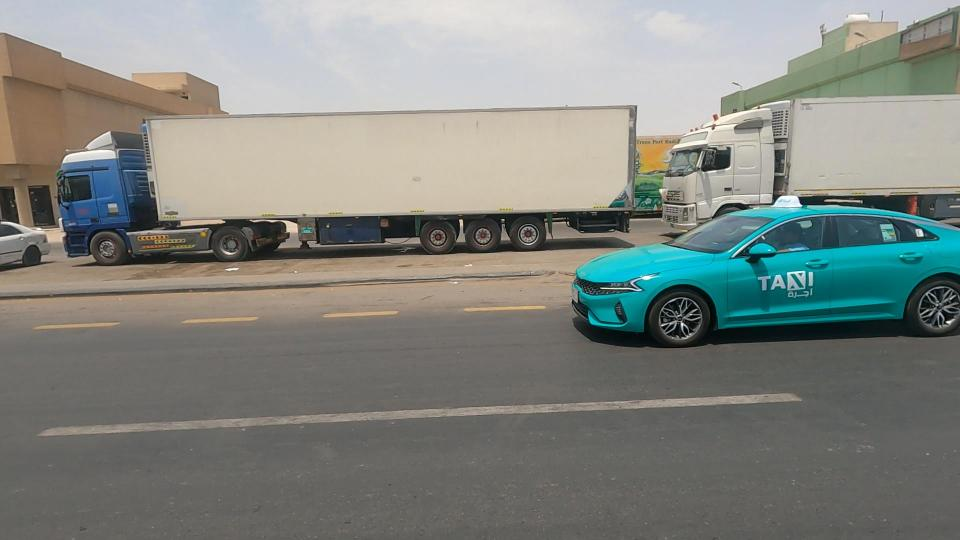GARBAGE: (196, 238, 261, 299)
